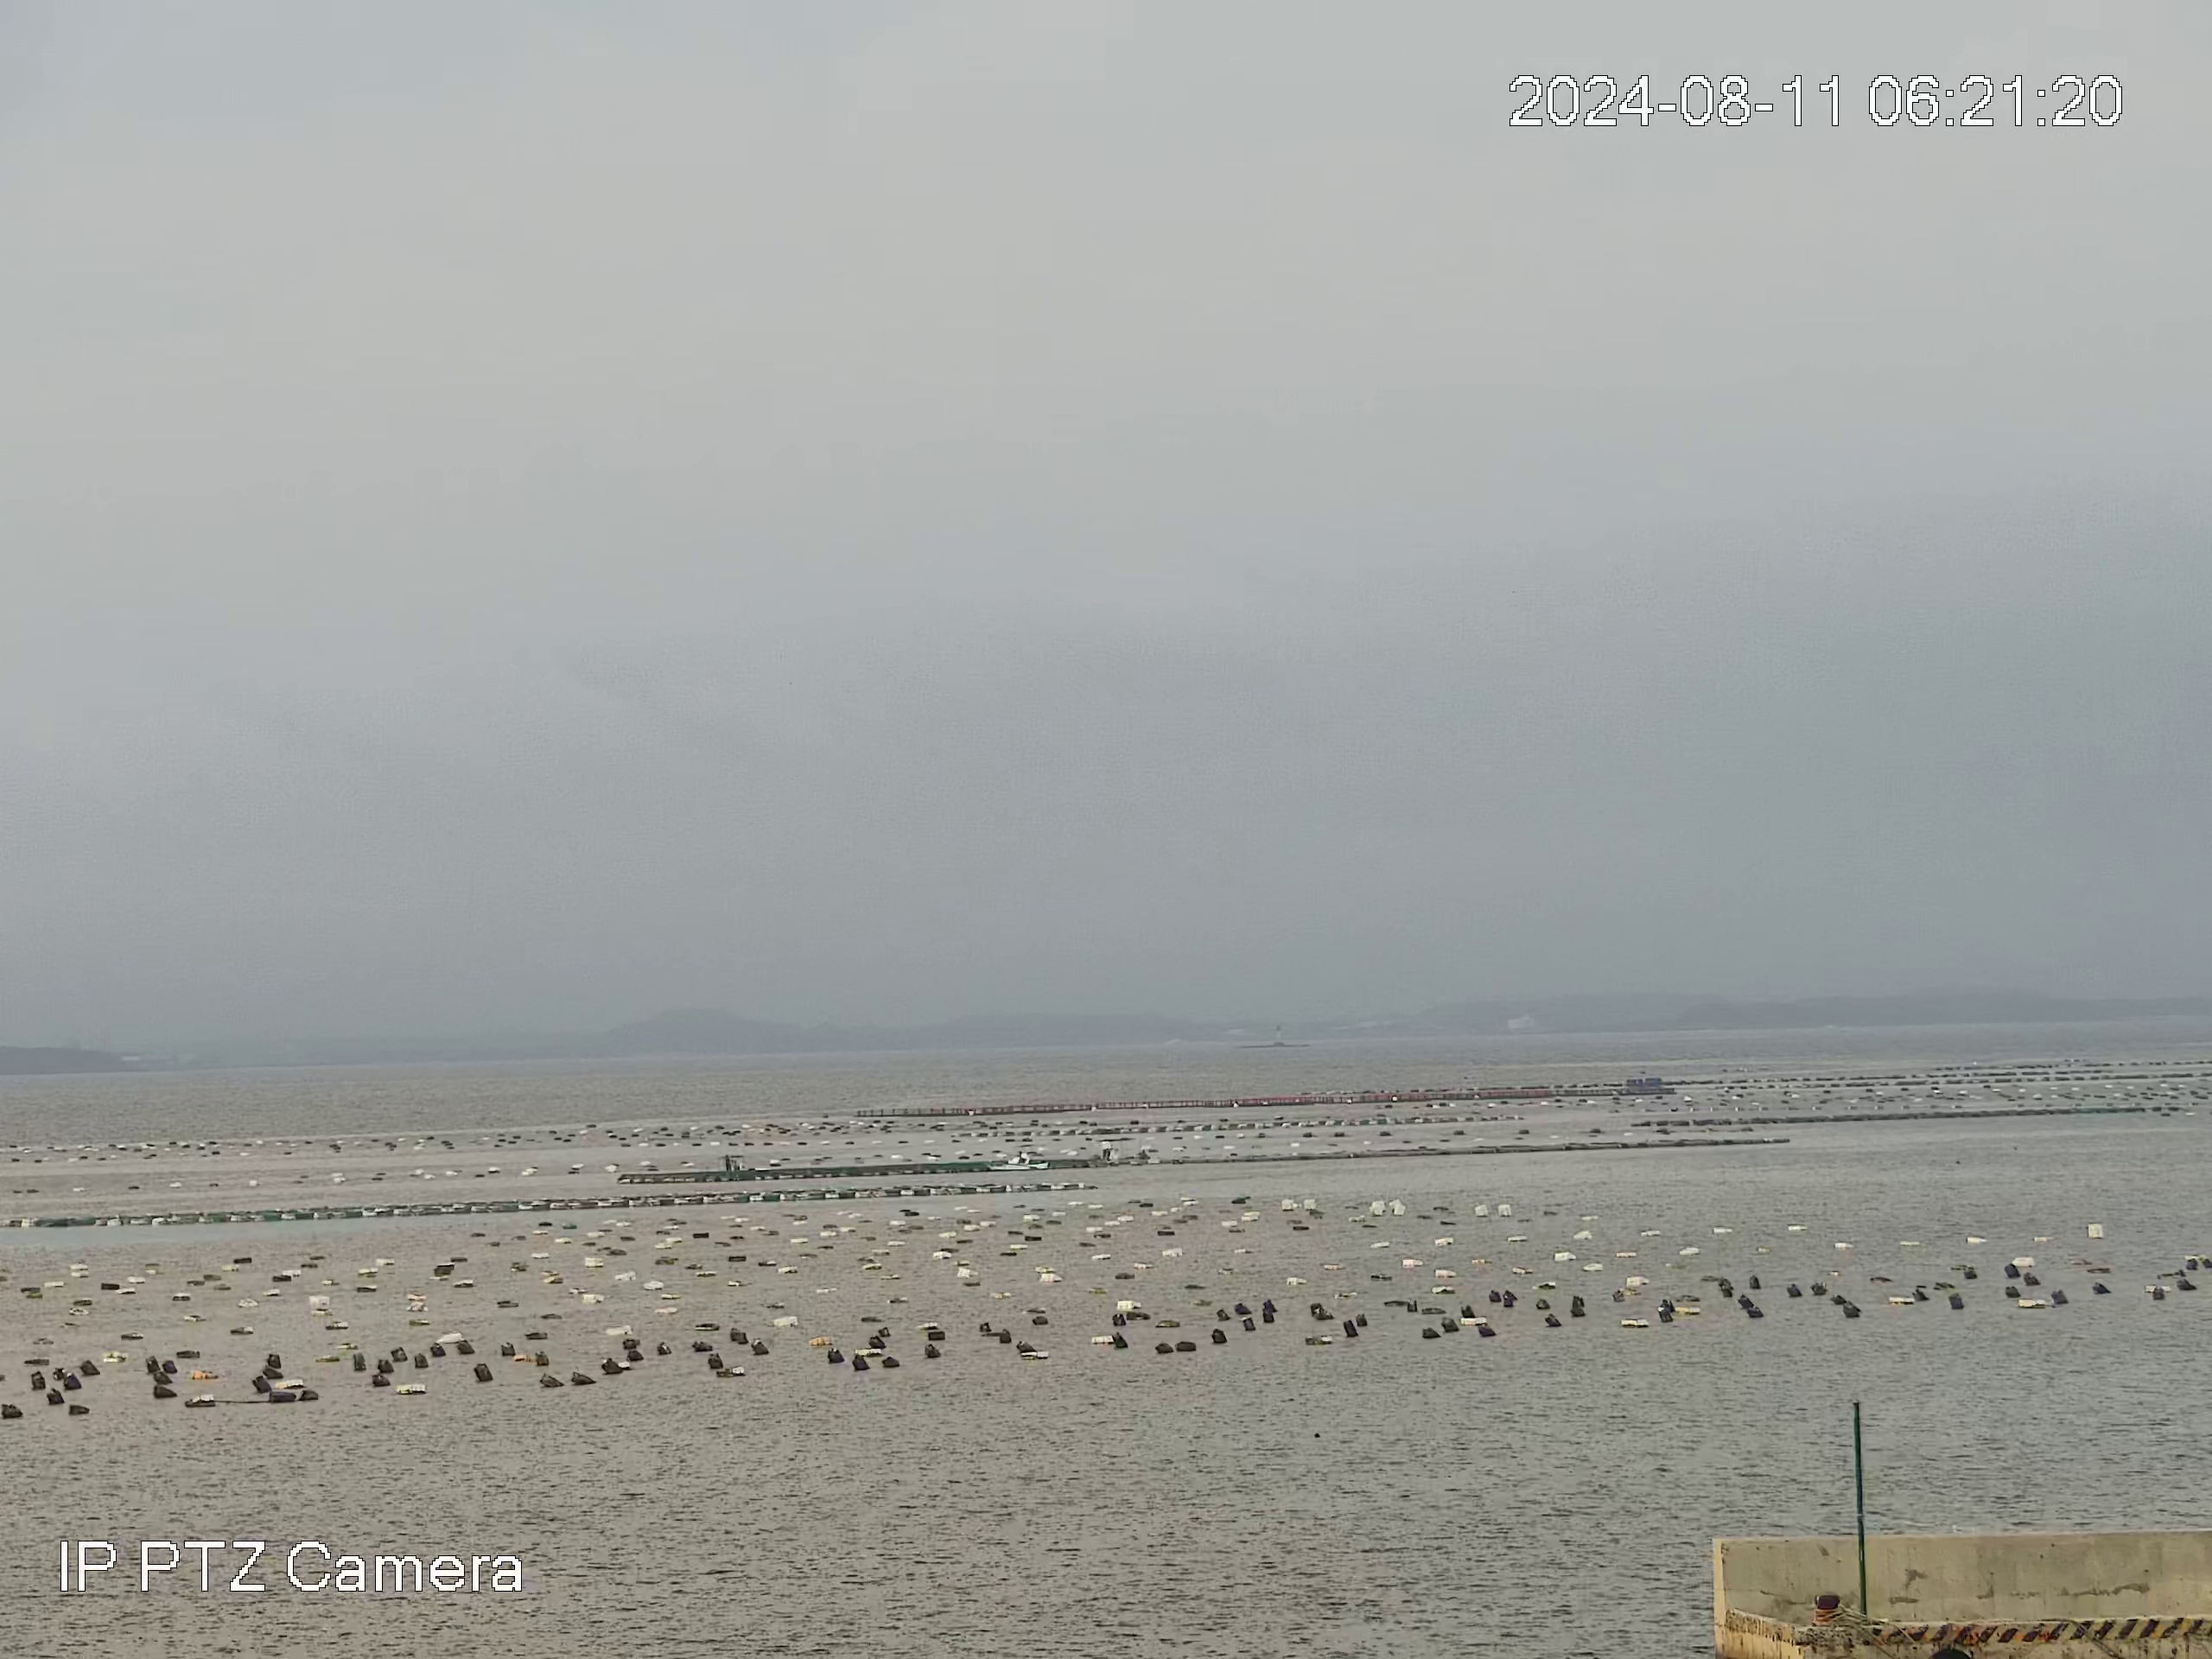boat: (984, 1150, 1050, 1171)
